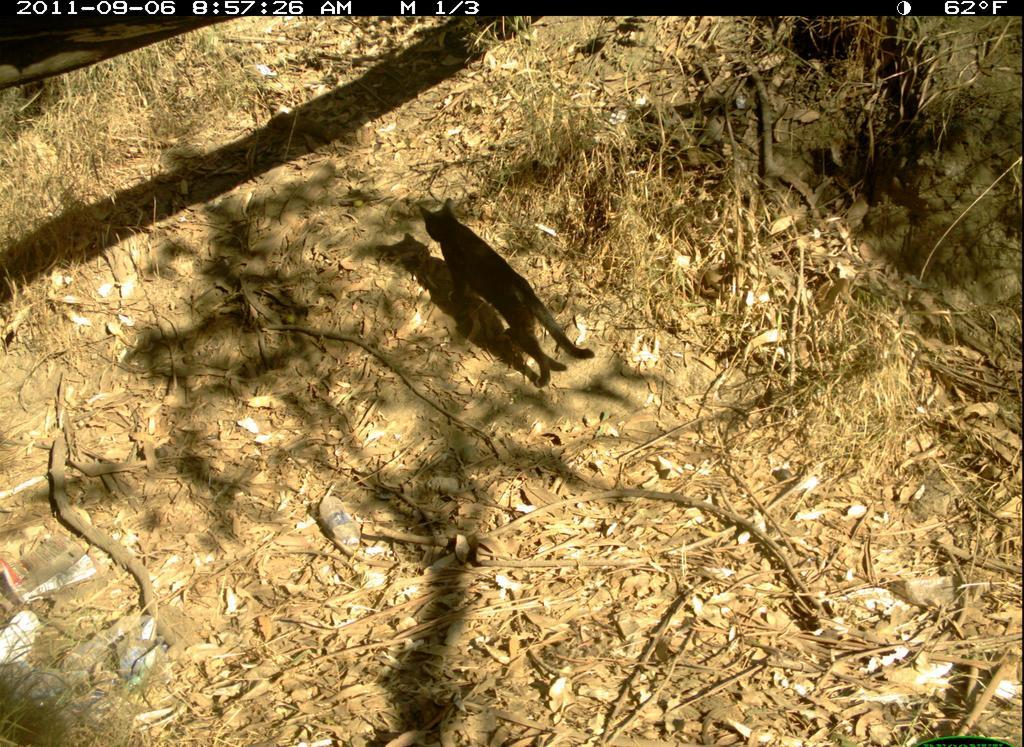cat: (397, 182, 611, 399)
